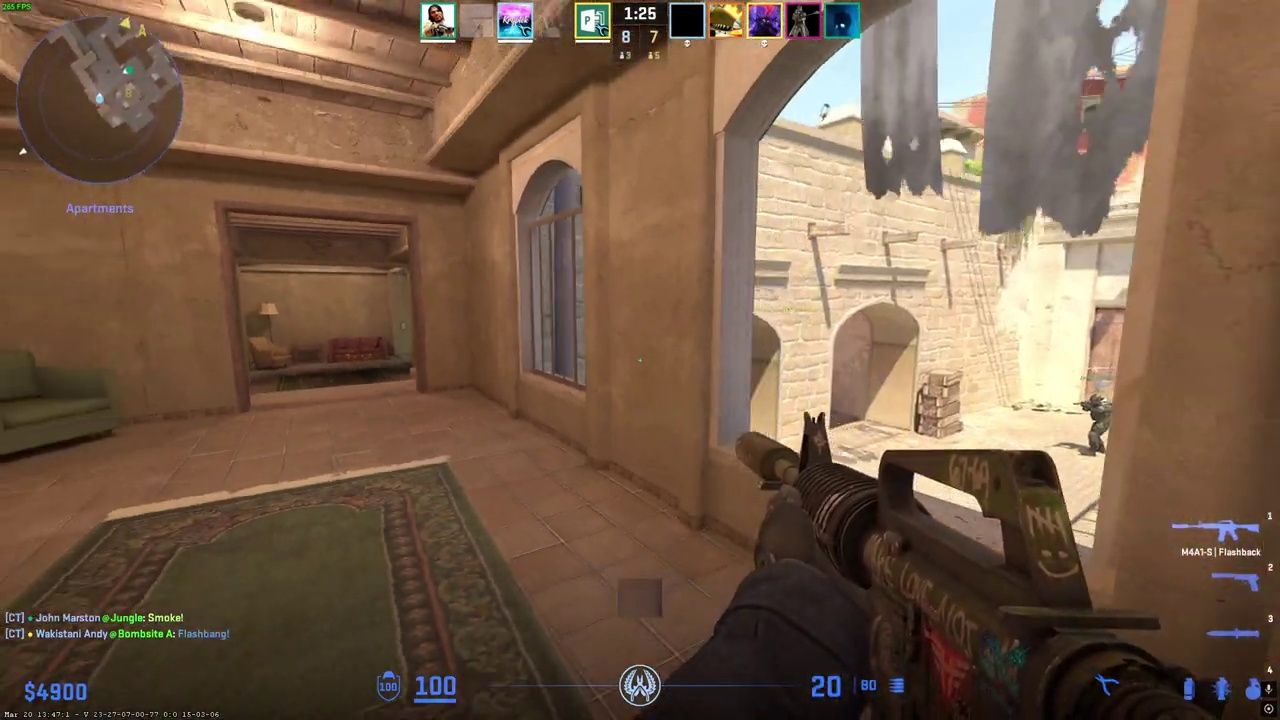CT: (1081, 393, 1111, 456)
